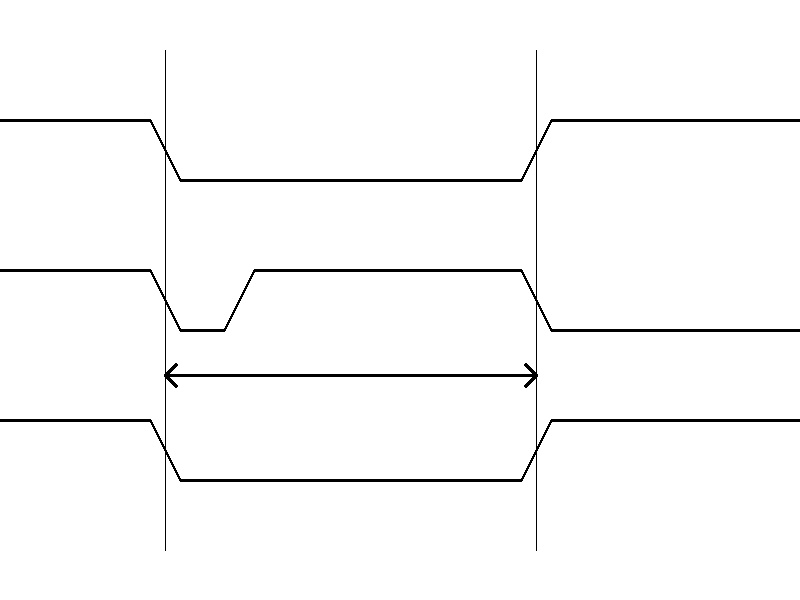double_arrow: (165, 360, 536, 390)
